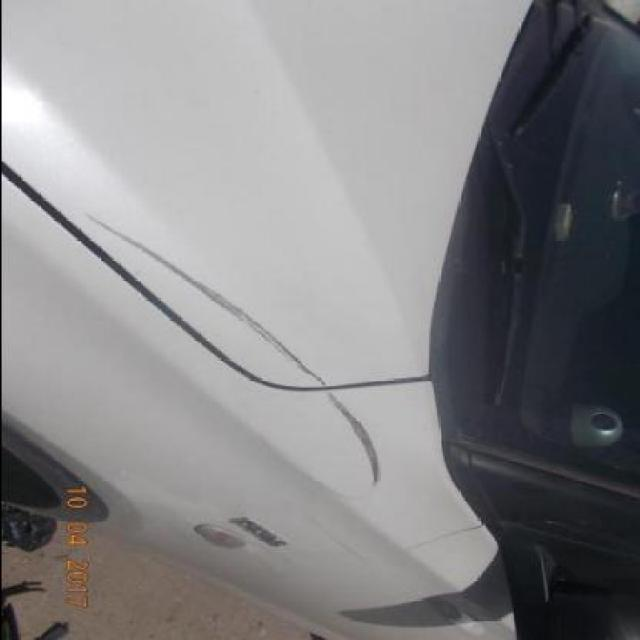damage: (77, 206, 387, 487)
